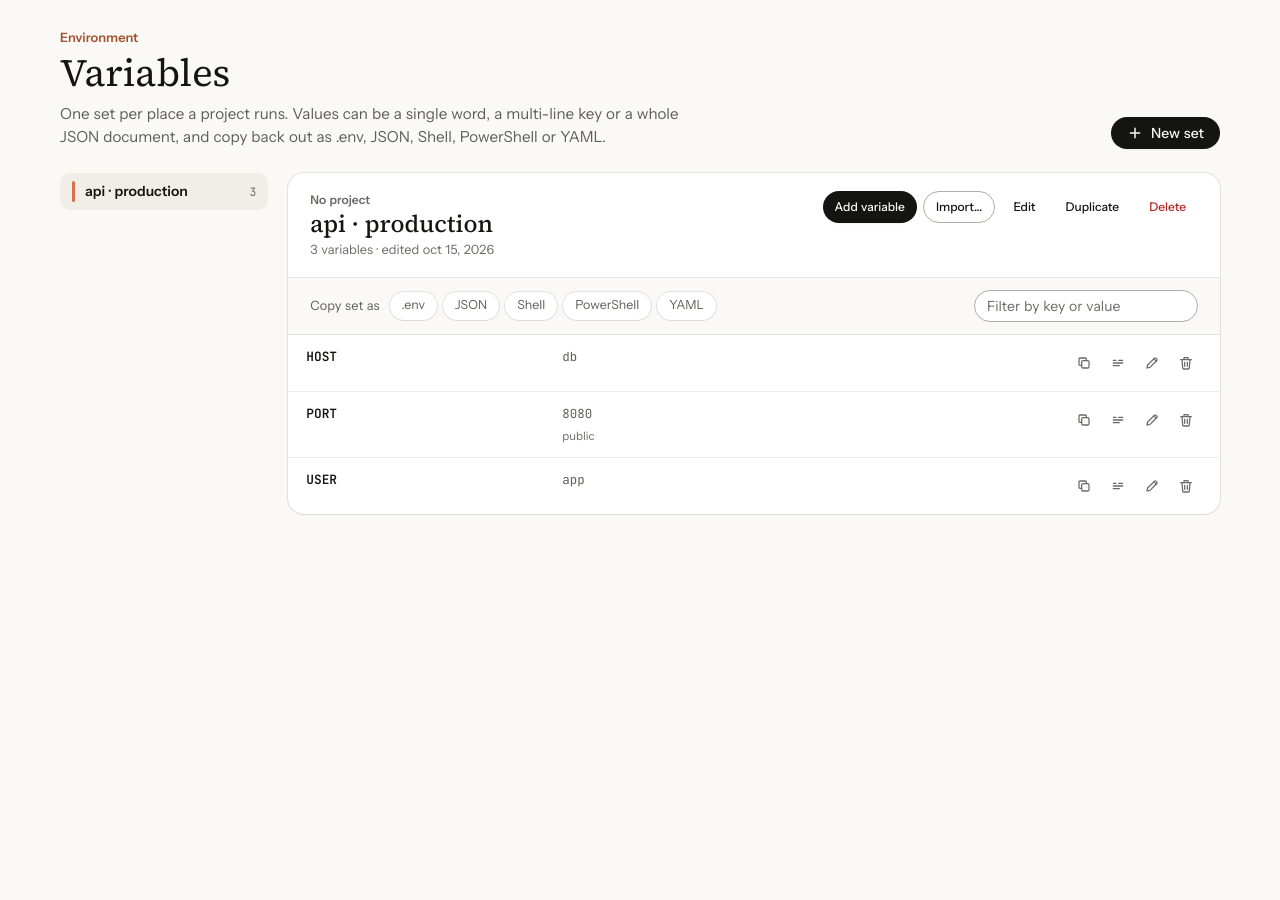
Test: EnvPage › deletes a variable and puts it back in its place on Undo
Check: the text "8080" is shown, box [562,404,592,422]
Click the button named "Delete PORT" at (1186, 420), box [1170,404,1202,436]
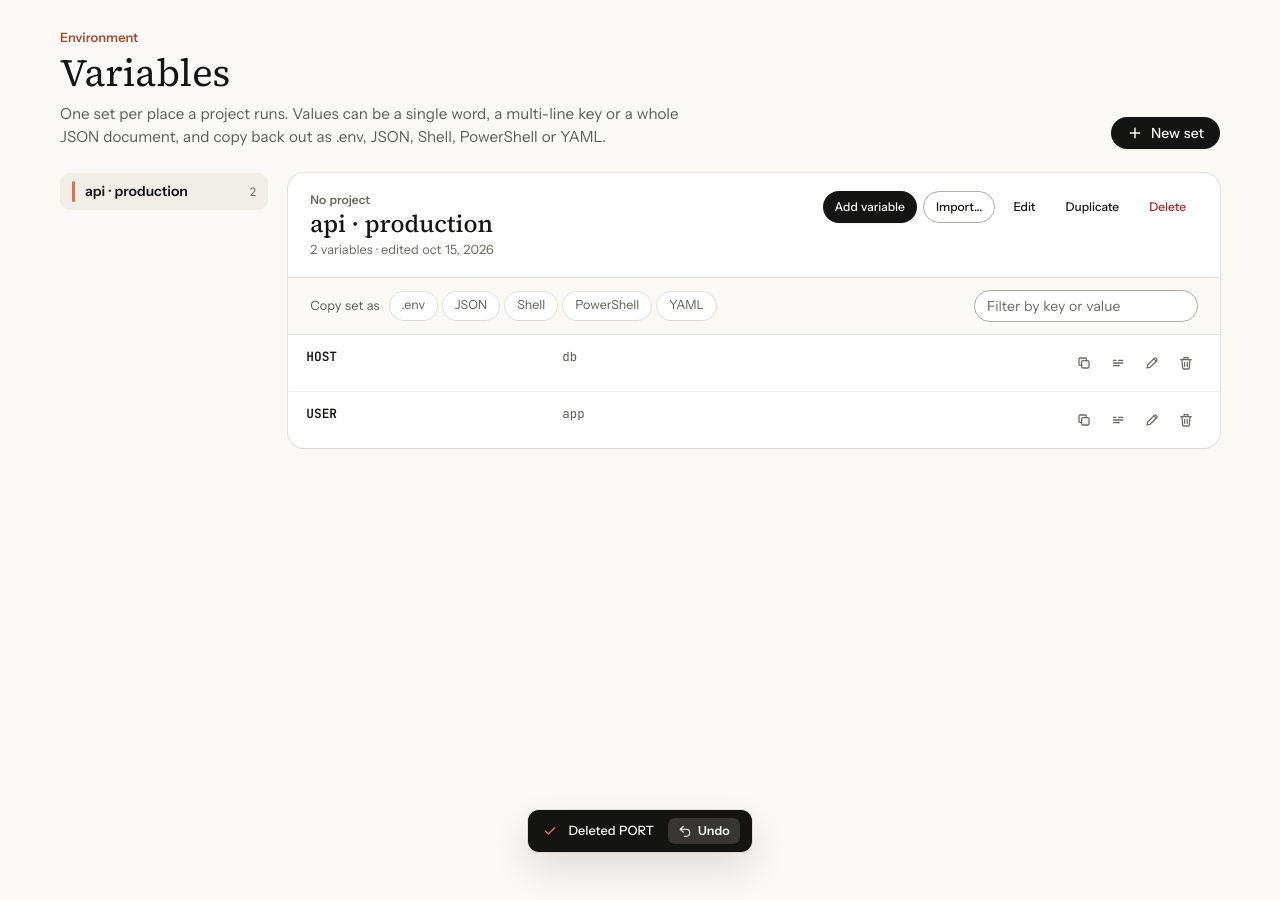
Check: the text "Deleted PORT" is shown, box [568,821,654,841]
Check: the text "8080" is gone
Click the button "Undo" at (704, 831), box [668,818,740,844]
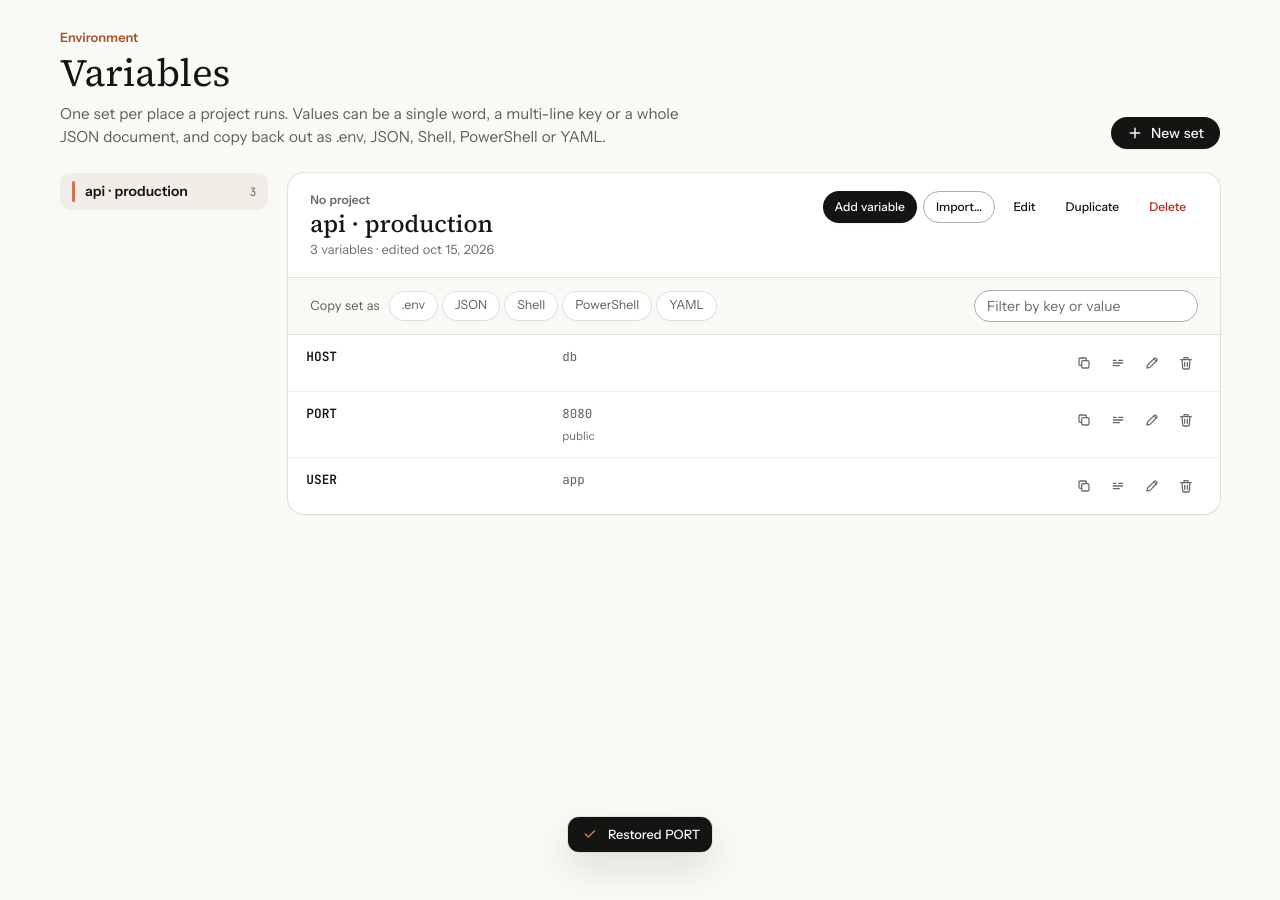
Check: the text "8080" is shown, box [562,404,592,422]
